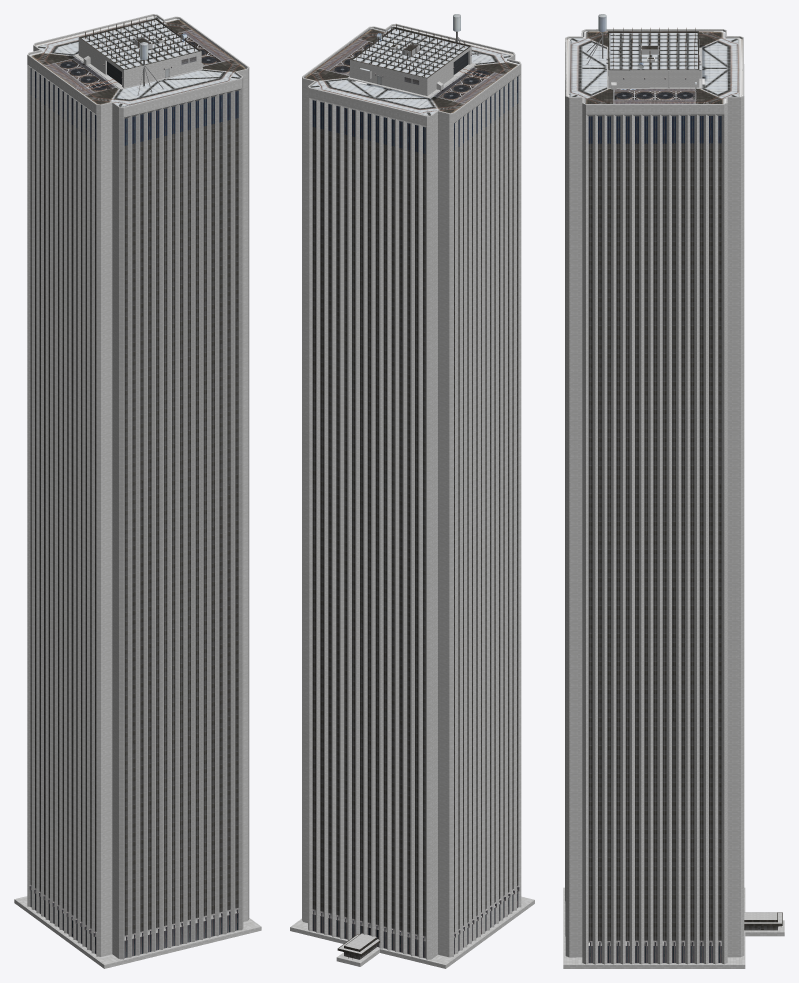
File: amaco_building.glb
The picture shows the model from 3 angles, left to right: view 1: azimuth 30°, elevation 25°; view 2: azimuth 150°, elevation 25°; view 3: azimuth 270°, elevation 25°; orthographic projection.
Visible parts, largest first — view 1: Aon_0; view 2: Aon_0; view 3: Aon_0.
Part boxes in pixels (x1,y1,x2,y2): Aon_0: (14, 14, 261, 968); Aon_0: (290, 14, 534, 968); Aon_0: (563, 14, 784, 968).
Bounding box in the file's own units: 65.34 × 356 × 78.87.
Materials: 5 (5 with a texture image).
